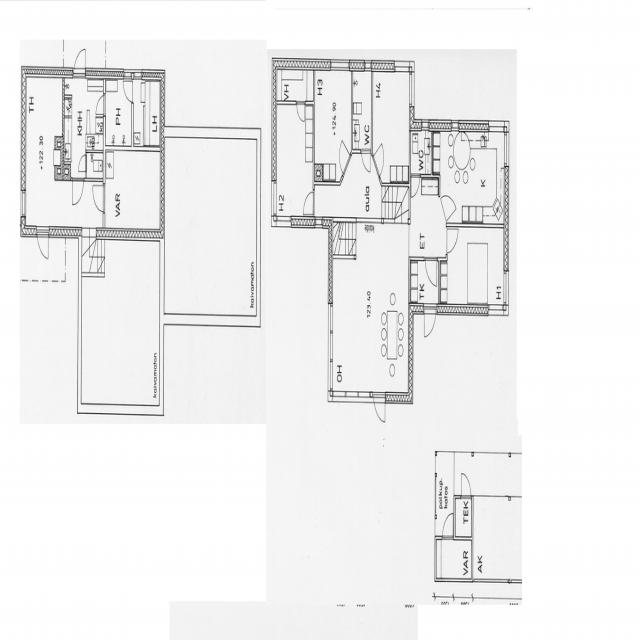door: (372, 141, 389, 178), (335, 140, 351, 175), (373, 391, 385, 429), (424, 303, 436, 340), (73, 42, 85, 78), (37, 228, 48, 263), (425, 257, 437, 287), (92, 185, 105, 211), (445, 229, 458, 252), (442, 511, 453, 538), (303, 192, 315, 215), (73, 178, 83, 205), (462, 474, 471, 499), (361, 149, 370, 173), (411, 174, 420, 198), (123, 82, 133, 100), (78, 154, 87, 172), (297, 101, 304, 121)
